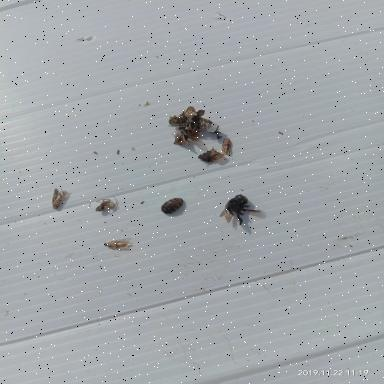pbw: (49, 184, 73, 214), (218, 136, 238, 157)
